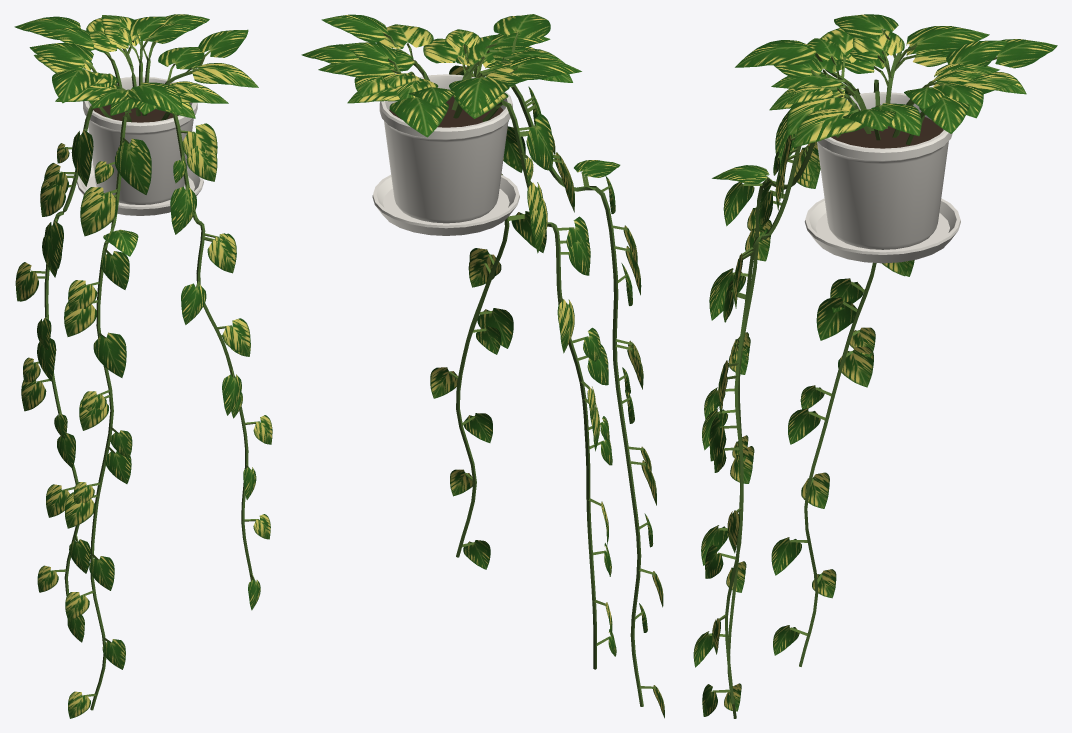
Rendered from prop_pothos.glb.
3 views of the same model, side by side, from view 1: azimuth 30°, elevation 25°; view 2: azimuth 150°, elevation 25°; view 3: azimuth 270°, elevation 25° (orthographic). The views are drawn at different scales.
Parts seen in each view (by area): view 1: pothos_leaf_S4, pothos_leaf_S3, pothos_pot, pothos_soil_stem_S4, pothos_leaf_S1, pothos_leaf_S2, pothos_soil_stem_S1, pothos_soil_stem_S3, pothos_soil_stem_S2; view 2: pothos_leaf_S4, pothos_pot, pothos_leaf_S3, pothos_soil_stem_S4, pothos_leaf_S1, pothos_soil_stem_S1, pothos_soil_stem_S3; view 3: pothos_leaf_S4, pothos_pot, pothos_leaf_S3, pothos_soil_stem_S4, pothos_leaf_S1, pothos_soil_stem_S1, pothos_leaf_S2, pothos_soil_stem_S3, pothos_soil_stem_S2.
Boxes of the visible parts, x1=… form: pothos_leaf_S4: x1=14, y1=14, x2=272, y2=718; pothos_leaf_S3: x1=20, y1=16, x2=250, y2=503; pothos_pot: x1=76, y1=76, x2=203, y2=215; pothos_soil_stem_S4: x1=31, y1=30, x2=259, y2=710; pothos_leaf_S1: x1=57, y1=23, x2=207, y2=183; pothos_leaf_S2: x1=59, y1=34, x2=227, y2=242; pothos_soil_stem_S1: x1=65, y1=36, x2=199, y2=164; pothos_soil_stem_S3: x1=34, y1=116, x2=234, y2=494; pothos_soil_stem_S2: x1=66, y1=34, x2=218, y2=237; pothos_leaf_S4: x1=301, y1=14, x2=664, y2=718; pothos_pot: x1=372, y1=74, x2=519, y2=235; pothos_leaf_S3: x1=318, y1=33, x2=651, y2=477; pothos_soil_stem_S4: x1=356, y1=32, x2=656, y2=706; pothos_leaf_S1: x1=344, y1=29, x2=555, y2=184; pothos_soil_stem_S1: x1=388, y1=43, x2=536, y2=159; pothos_soil_stem_S3: x1=469, y1=73, x2=644, y2=450; pothos_leaf_S4: x1=693, y1=26, x2=1057, y2=716; pothos_pot: x1=804, y1=92, x2=960, y2=263; pothos_leaf_S3: x1=704, y1=14, x2=999, y2=472; pothos_soil_stem_S4: x1=709, y1=44, x2=997, y2=718; pothos_leaf_S1: x1=773, y1=43, x2=982, y2=200; pothos_soil_stem_S1: x1=777, y1=47, x2=943, y2=163; pothos_leaf_S2: x1=738, y1=28, x2=938, y2=282; pothos_soil_stem_S3: x1=718, y1=84, x2=878, y2=464; pothos_soil_stem_S2: x1=739, y1=30, x2=943, y2=256.
Size of the model in its own units: 0.3082 by 0.728 by 0.3308.
3 materials, 1 textured.
